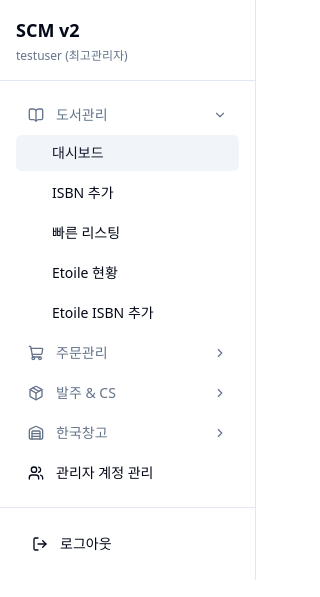
Test: Sidebar › 토글 동작 › 접힌 상태에서 다시 클릭 시 하위 항목이 펼쳐진다
Click the button "도서관리": (128, 115) [16,97,239,133]
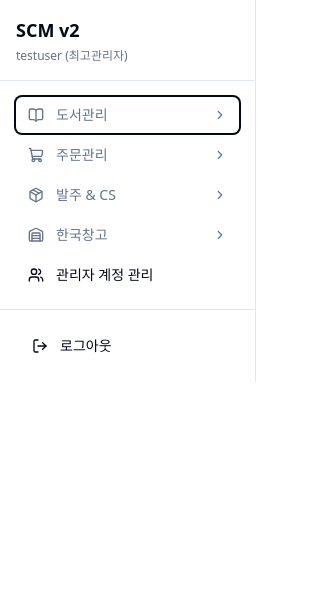
Click the button "도서관리": (128, 115) [16,97,239,133]
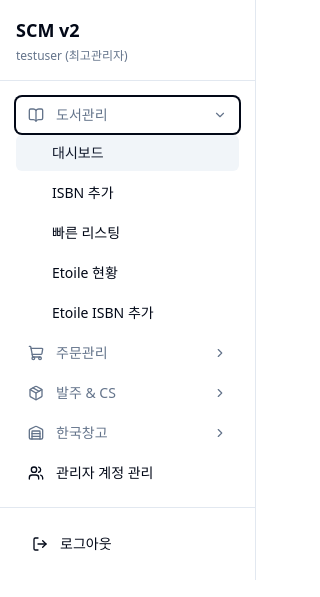
Check: the link "대시보드" is shown, box [16,135,239,171]
